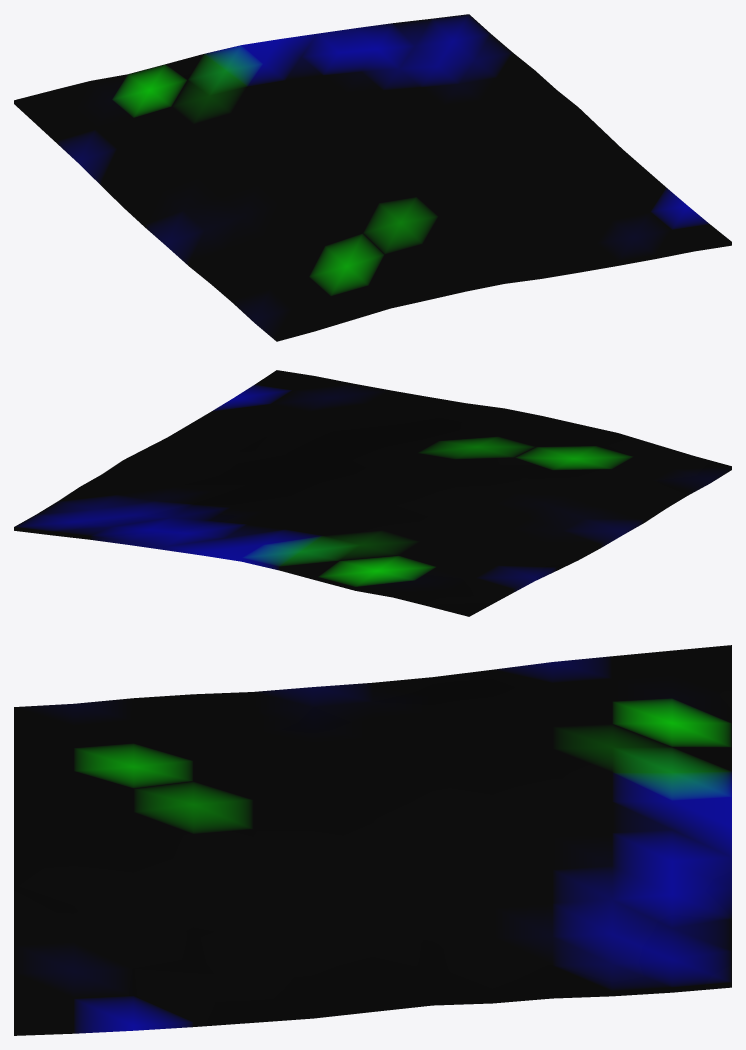
The model's file is coast_23_3.glb.
3 renders of one model, top to bottom at view 1: azimuth 30°, elevation 25°; view 2: azimuth 150°, elevation 25°; view 3: azimuth 270°, elevation 25°, orthographic. The views are drawn at different scales.
Parts seen in each view (by area): view 1: terrain; view 2: terrain; view 3: terrain.
Boxes of the visible parts, x1,y1,x2,y2 form: terrain: (14,14,731,341); terrain: (14,370,731,616); terrain: (14,645,731,1035).
Size of the model in its own units: 192 by 26.12 by 192.
